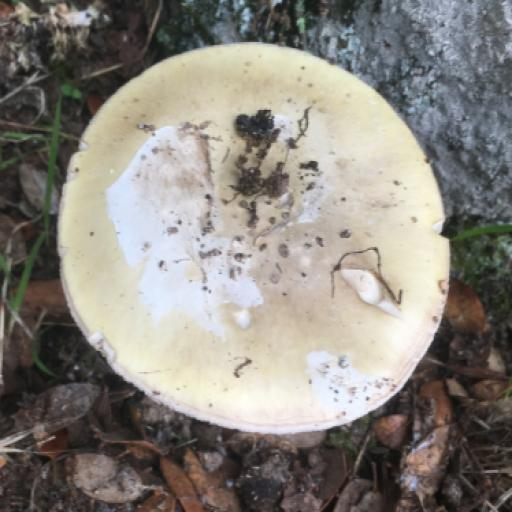mushroom: (58, 44, 449, 433)
